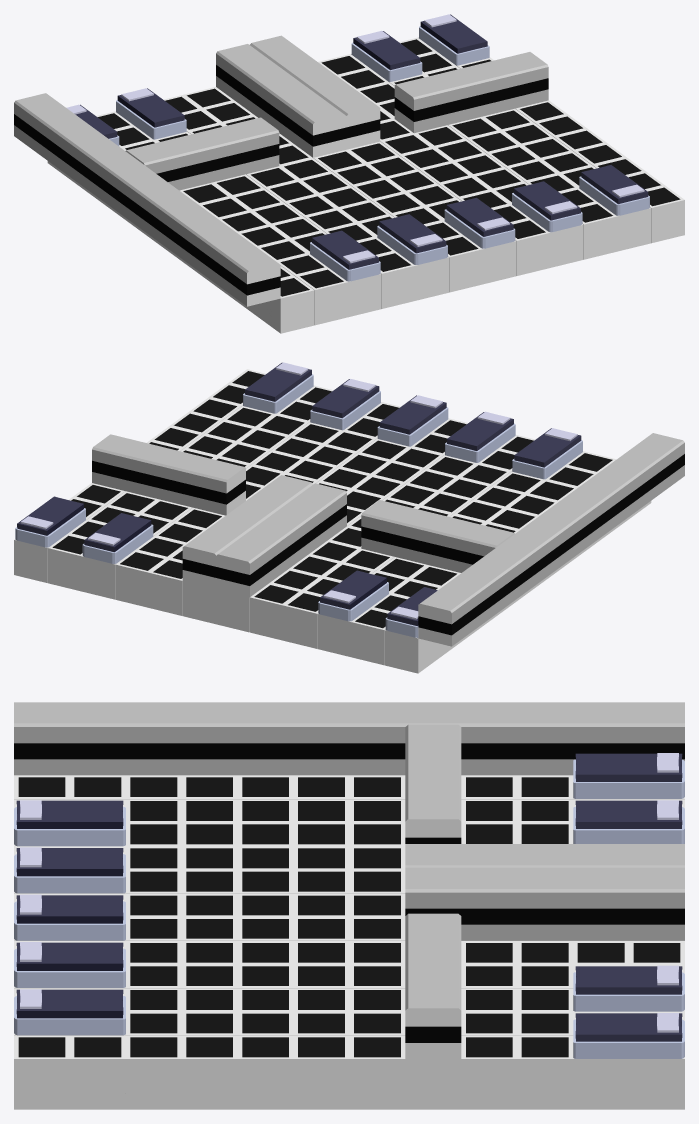
File: medbayLarge.fbx
The picture shows the model from 3 angles, top to bottom: view 1: azimuth 30°, elevation 25°; view 2: azimuth 150°, elevation 25°; view 3: azimuth 270°, elevation 25°; orthographic projection. The views are drawn at different scales.
Visible parts, largest first — view 1: Cube.192, Cube.183, Cube.193, Cube.207, Cube.203, Cube.208, Cube.205, Cube.007, Cube.188, Cube.204, Cube.169, Cube.002 (+93 smaller); view 2: Cube.197, Cube.174, Cube.192, Cube.203, Cube.204, Cube.169, Cube.207, Cube.007, Cube.188, Cube.205, Cube.208, Cube.198 (+94 smaller); view 3: Cube.204, Cube.007, Cube.203, Cube.188, Cube.207, Cube.208, Cube.169, Cube.206, Cube.205, Cube.048, Cube.072, Cube.099 (+112 smaller).
Boxes of the visible parts, <box> form: Cube.192: <box>394,76,447,133</box>; Cube.183: <box>227,249,280,306</box>; Cube.193: <box>293,100,346,157</box>; Cube.207: <box>351,30,422,81</box>; Cube.203: <box>444,197,515,248</box>; Cube.208: <box>419,14,489,65</box>; Cube.205: <box>116,88,186,139</box>; Cube.007: <box>579,165,649,215</box>; Cube.188: <box>377,214,447,264</box>; Cube.204: <box>310,230,380,281</box>; Cube.169: <box>512,181,582,232</box>; Cube.002: <box>261,276,314,333</box>; Cube.197: <box>216,540,269,597</box>; Cube.174: <box>418,589,471,646</box>; Cube.192: <box>193,459,245,515</box>; Cube.203: <box>377,395,448,446</box>; Cube.204: <box>512,428,582,479</box>; Cube.169: <box>310,379,380,430</box>; Cube.207: <box>82,513,153,563</box>; Cube.007: <box>243,362,313,413</box>; Cube.188: <box>445,411,515,462</box>; Cube.205: <box>318,570,388,621</box>; Cube.208: <box>15,496,85,547</box>; Cube.198: <box>182,532,235,588</box>; Cube.204: <box>14,800,125,846</box>; Cube.007: <box>14,989,125,1035</box>; Cube.203: <box>14,894,125,940</box>; Cube.188: <box>14,847,125,893</box>; Cube.207: <box>573,965,684,1011</box>; Cube.208: <box>573,1013,684,1058</box>; Cube.169: <box>14,942,125,987</box>; Cube.206: <box>573,753,684,798</box>; Cube.205: <box>573,800,684,843</box>; Cube.048: <box>181,1035,237,1109</box>; Cube.072: <box>349,1035,405,1109</box>; Cube.099: <box>237,1035,293,1109</box>.
Bounding box in the file's own units: 2602 × 400 × 2400.
